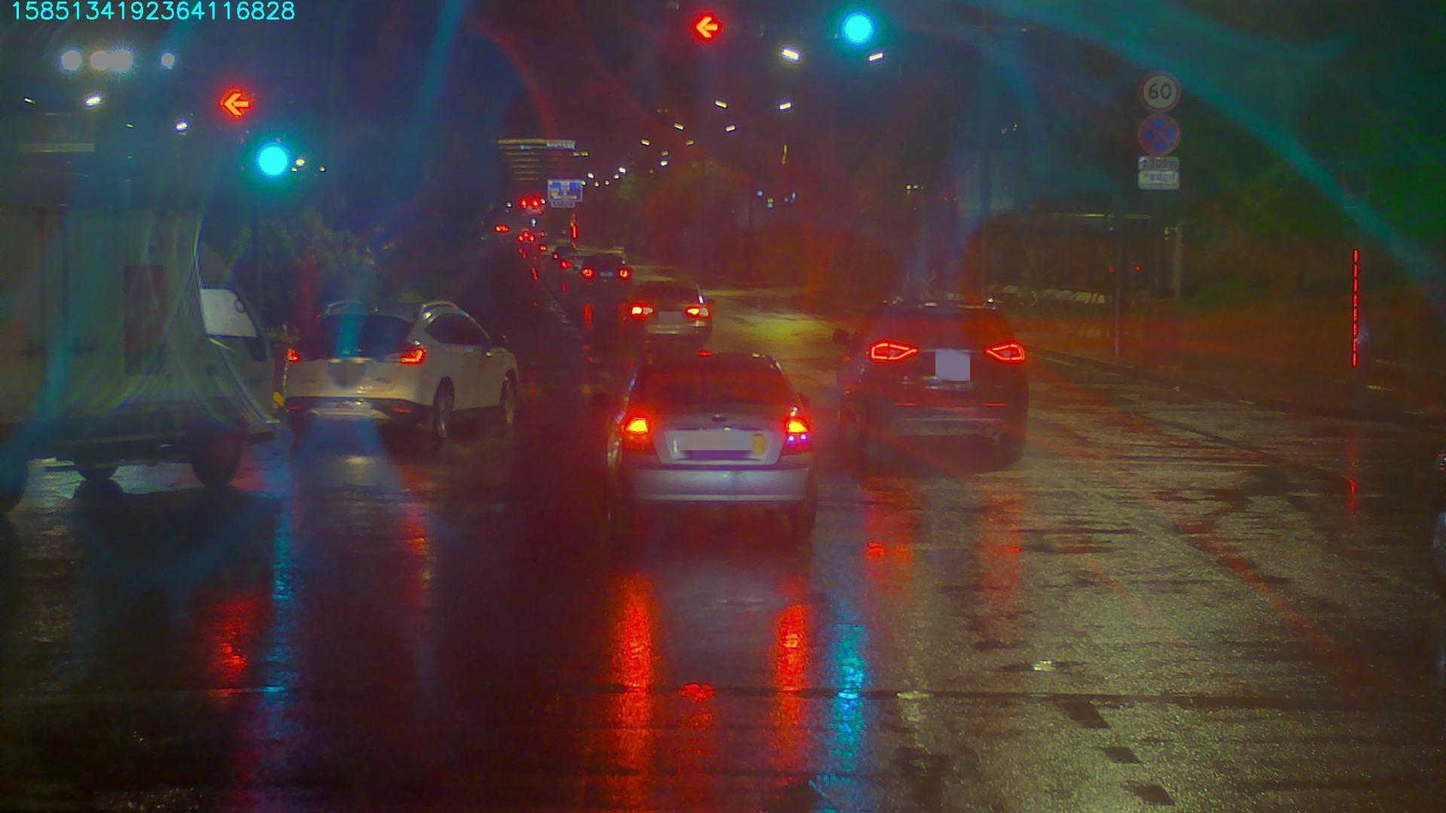green: (826, 5, 877, 47)
red: (680, 17, 725, 50)
